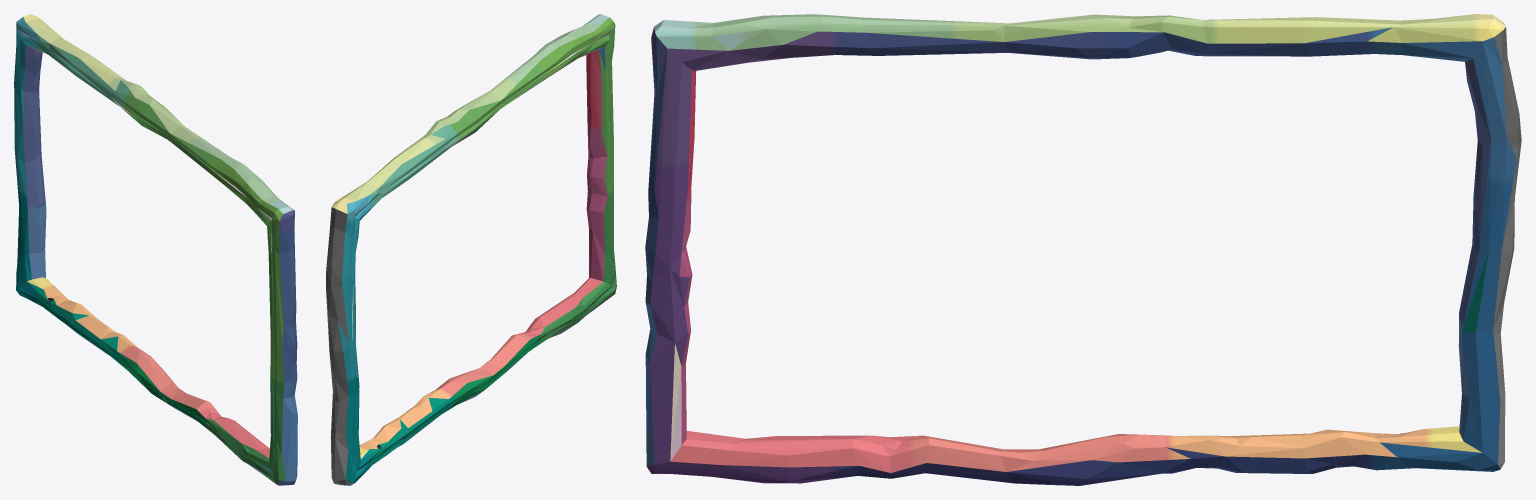
File: frame.fbx
3 views of the same model, side by side, from view 1: azimuth 30°, elevation 25°; view 2: azimuth 150°, elevation 25°; view 3: azimuth 270°, elevation 25° (orthographic). The views are drawn at different scales.
Parts seen in each view (by area): view 1: frame; view 2: frame; view 3: frame.
Boxes of the visible parts, <box> form: frame: <box>14,14,297,485</box>; frame: <box>326,14,616,485</box>; frame: <box>645,14,1521,485</box>.
Size of the model in its own units: 0.1104 by 1.21 by 2.05.
